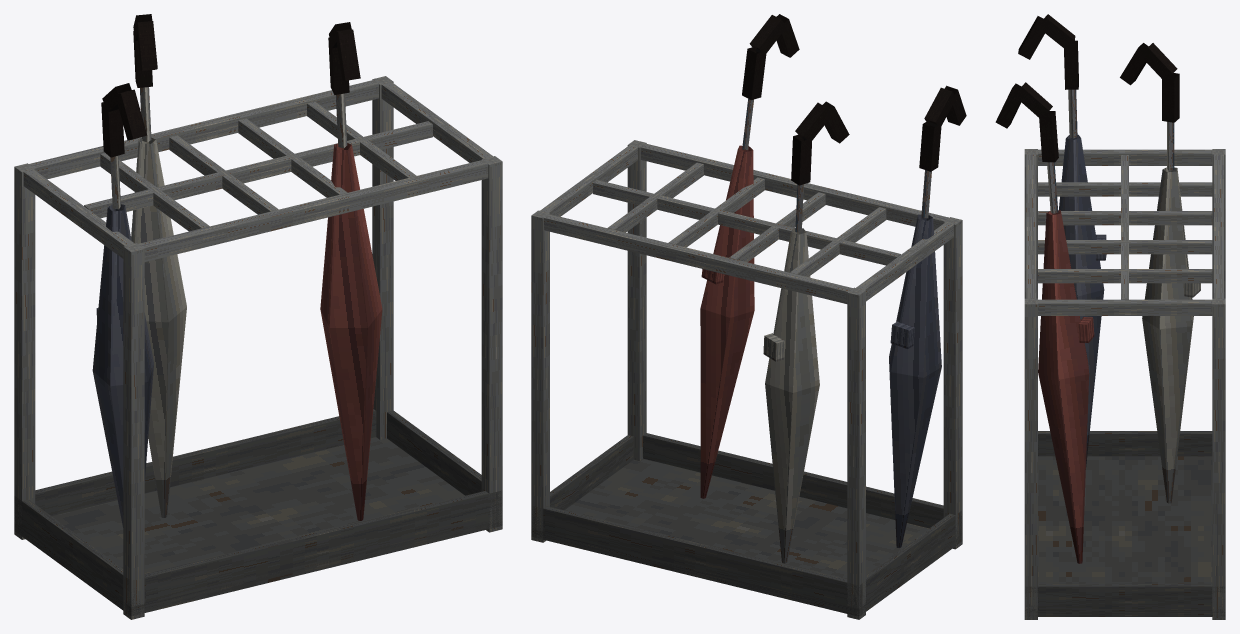
The model's file is prop_umbrella_stand-3.glb.
3 views of the same model, side by side, from view 1: azimuth 30°, elevation 25°; view 2: azimuth 150°, elevation 25°; view 3: azimuth 270°, elevation 25° (orthographic). The views are drawn at different scales.
Visible parts, largest first — view 1: prop_umbrella_stand-3; view 2: prop_umbrella_stand-3; view 3: prop_umbrella_stand-3.
Part boxes in pixels (x1,y1,x2,y2): prop_umbrella_stand-3: [14, 14, 502, 619]; prop_umbrella_stand-3: [531, 14, 966, 619]; prop_umbrella_stand-3: [995, 14, 1225, 619].
Bounding box in the file's own units: 0.5539 × 0.7724 × 0.3438.
6 materials, 6 textured.
